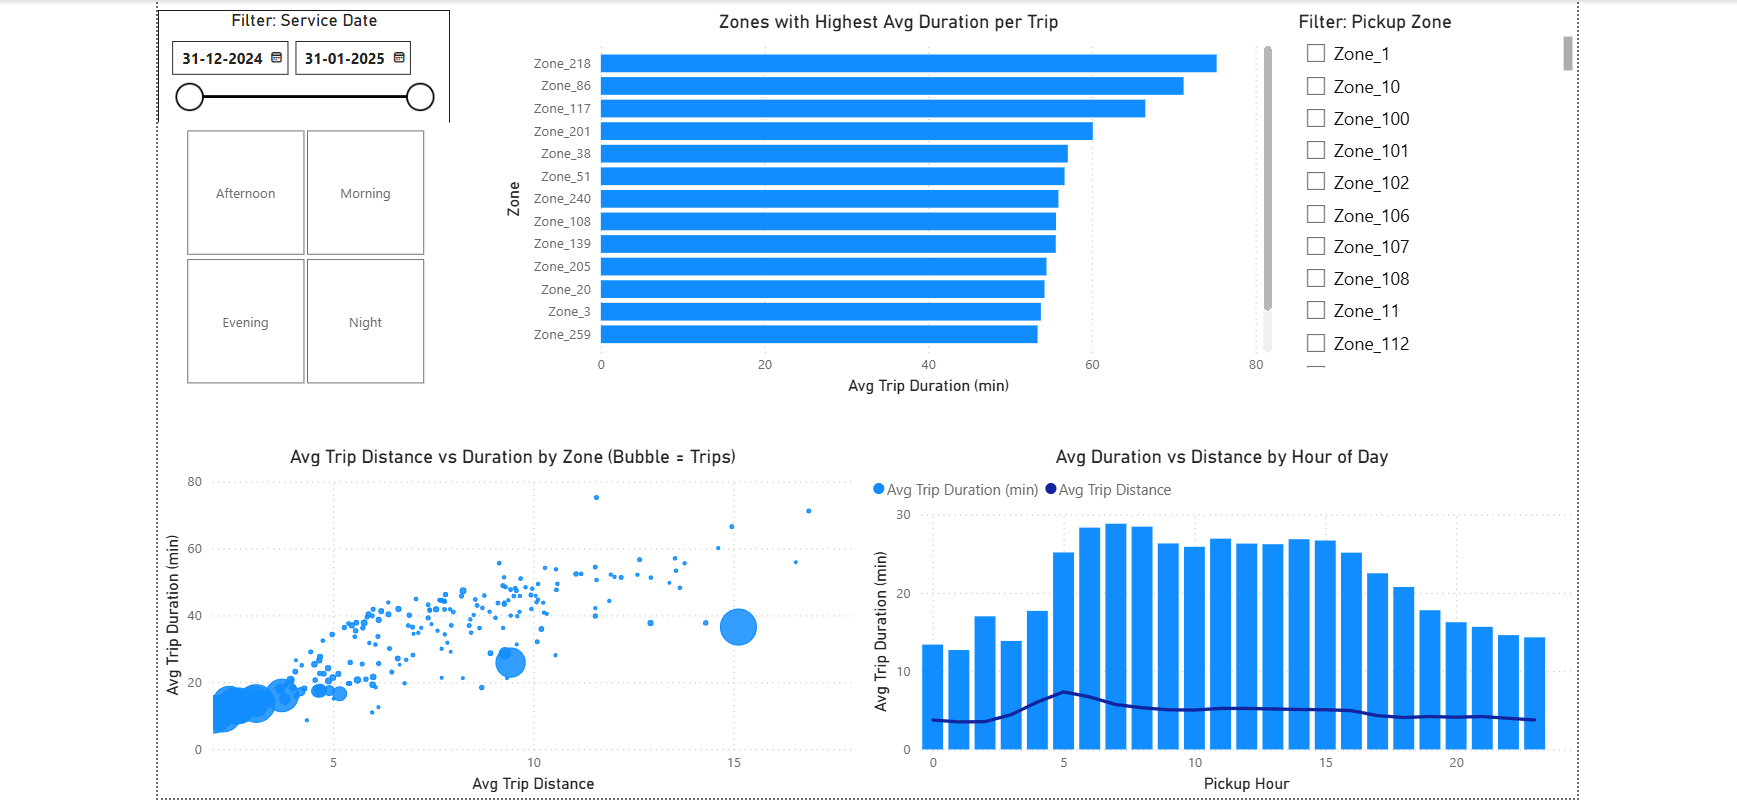

This screenshot's page, from the dashboard's own definition file:
{"tool":"powerbi","page":{"name":" Service Efficiency","canvas":[1280,720],"ordinal":2},"visuals":[{"type":"slicer","title":"Filter: Service Date","fields":{"Values":["dim_date.calendar_date"]},"box":[0,8.8,264.2,110.9],"z":0},{"type":"slicer","title":"Part of Day","fields":{"Values":["dim_time.part_of_day"]},"box":[0,110.9,264.2,242.3],"z":1000},{"type":"slicer","title":"Filter: Pickup Zone","fields":{"Values":["dim_zone.zone_description"]},"box":[1023.1,8.8,256.9,327],"z":2000},{"type":"clusteredBarChart","title":"Zones with Highest Avg Duration per Trip","fields":{"Category":["dim_zone.zone_description"],"Y":["gold_zone_hour_metrics.Avg Trip Duration (min)"]},"box":[308,8.8,702.2,351.8],"z":3000},{"type":"scatterChart","title":"Avg Trip Distance vs Duration by Zone (Bubble = Trips)","fields":{"X":["gold_zone_hour_metrics.Avg Trip Distance"],"Y":["gold_zone_hour_metrics.Avg Trip Duration (min)"],"Size":["gold_zone_hour_metrics.Total Trips"],"Category":["dim_zone.zone_description"]},"box":[0,401.5,639.4,318.2],"z":4000},{"type":"lineClusteredColumnComboChart","title":"Avg Duration vs Distance by Hour of Day","fields":{"Y2":["gold_zone_hour_metrics.Avg Trip Distance"],"Y":["gold_zone_hour_metrics.Avg Trip Duration (min)"],"Category":["dim_time.pickup_hour"]},"box":[639.4,401.5,640.9,318.2],"z":5000}]}

Visuals, with their boxes on the page's 1280x720 design canvas (x1, y1, x2, y2). These are canvas units, not pixel positions in the 1737x806 screenshot, which may show the page scaled, cropped or inside an application window:
"Filter: Service Date" slicer: (0, 9, 264, 120)
"Part of Day" slicer: (0, 111, 264, 353)
"Filter: Pickup Zone" slicer: (1023, 9, 1280, 336)
"Zones with Highest Avg Duration per Trip" clusteredBarChart: (308, 9, 1010, 361)
"Avg Trip Distance vs Duration by Zone (Bubble = Trips)" scatterChart: (0, 402, 639, 720)
"Avg Duration vs Distance by Hour of Day" lineClusteredColumnComboChart: (639, 402, 1280, 720)
